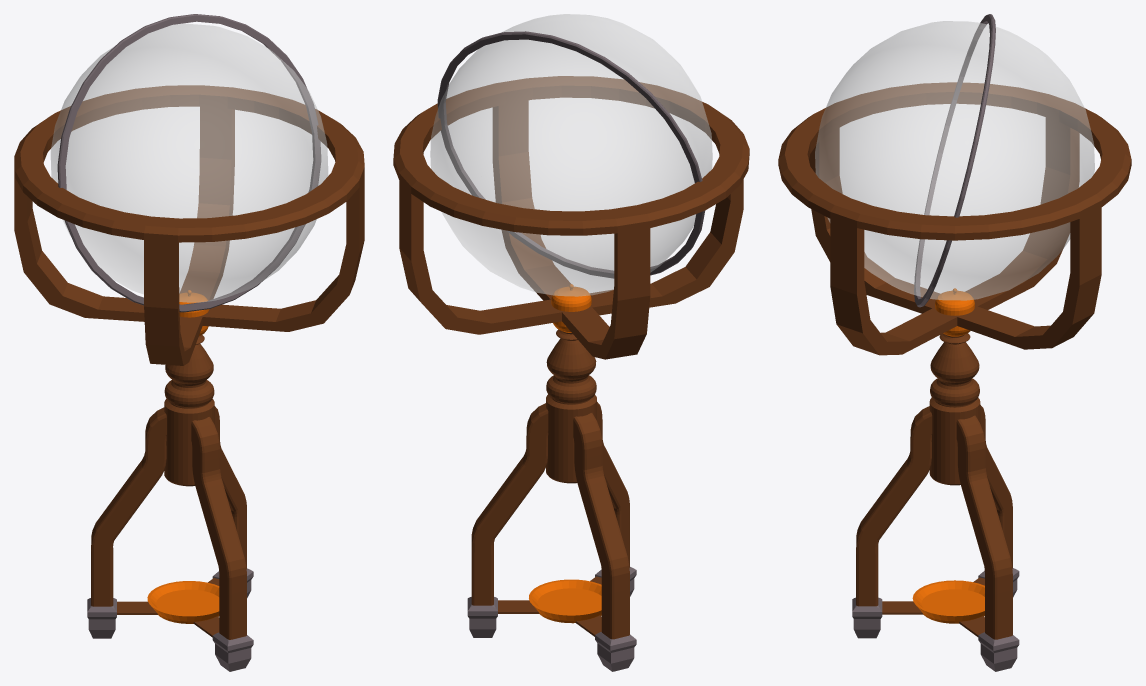
Rendered from V_Francisco10_Celeste.fbx.
3 views of the same model, side by side, from view 1: azimuth 30°, elevation 25°; view 2: azimuth 150°, elevation 25°; view 3: azimuth 270°, elevation 25° (orthographic).
Visible parts, largest first — view 1: Base, Globo; view 2: Base, Globo; view 3: Base, Globo.
Part boxes in pixels (box(x1,y1,x2,y2)): Base: box(14, 14, 364, 671); Globo: box(50, 23, 328, 302); Base: box(393, 31, 749, 671); Globo: box(430, 14, 712, 296); Base: box(778, 14, 1131, 671); Globo: box(815, 21, 1094, 300).
Bounding box in the file's own units: 15.95 × 30.21 × 15.95.
